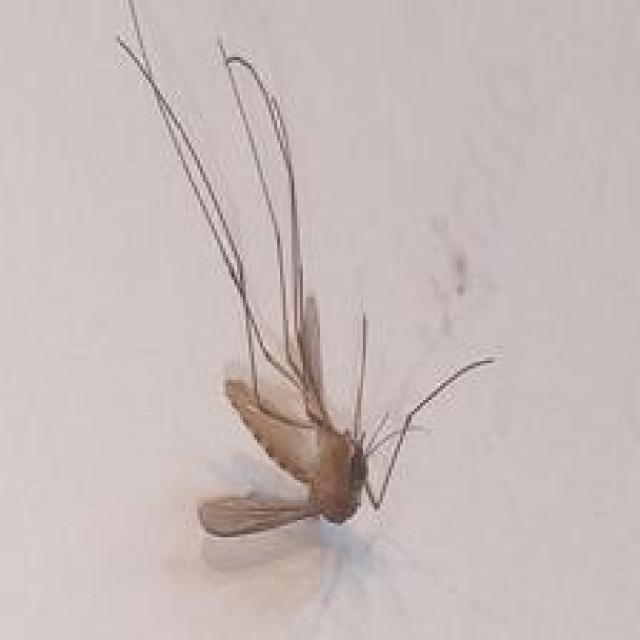Culex: (113, 0, 496, 540)
